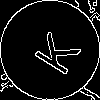K: (25, 25, 82, 77)
